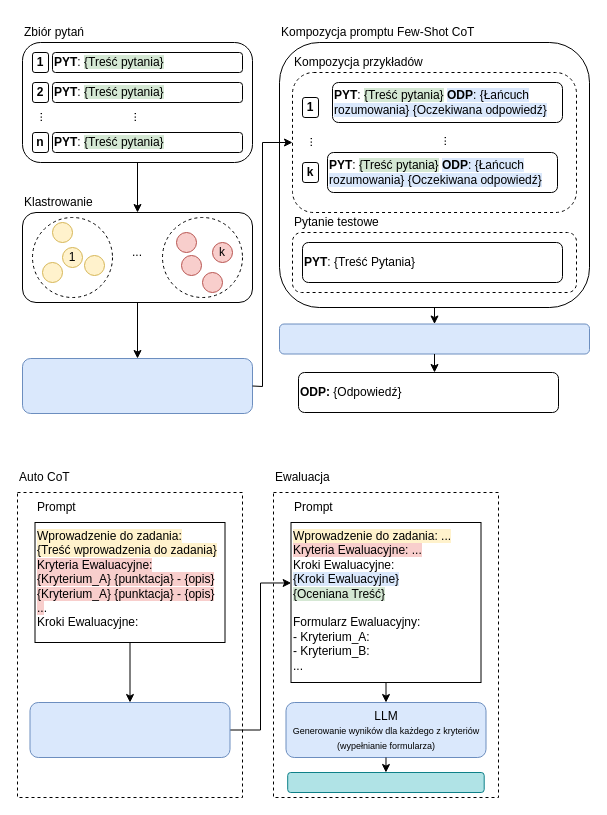
Image size: 607x815. Some labels were removed from this diagram. Here are the shapes that lost their labels. From the top down, the box of each, then its label:
(278, 323, 590, 354): LLM Generowanie odpowiedzi na pytanie testowe (Few-Shot CoT)
(22, 358, 252, 414): LLM Generowanie łańcuchów rozumowania na bazie reprezentantów (Zero-Shot CoT)
(29, 702, 230, 758): LLM Generowanie kroków ewaluacyjnych (Zero-Shot CoT)
(287, 772, 484, 792): Normalizacja wyników
